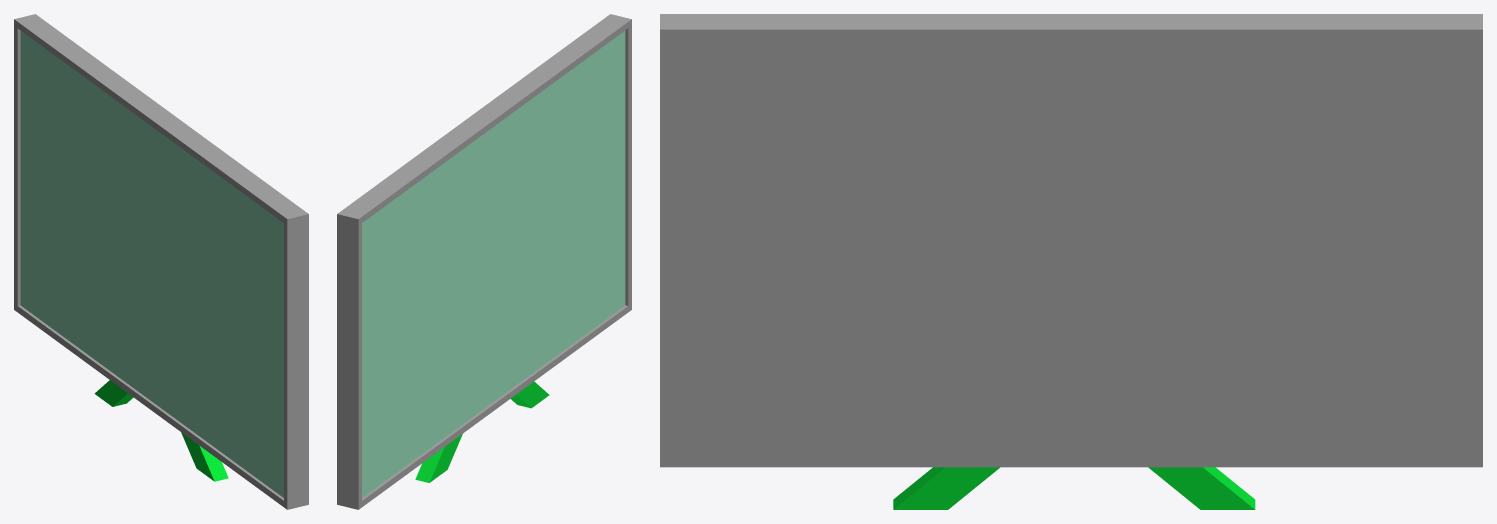
Rendered from tele.fbx.
3 views of the same model, side by side, from view 1: azimuth 30°, elevation 25°; view 2: azimuth 150°, elevation 25°; view 3: azimuth 270°, elevation 25° (orthographic). The views are drawn at different scales.
Parts seen in each view (by area): view 1: tele; view 2: tele; view 3: tele.
Boxes of the visible parts, x1,y1,x2,y2 form: tele: (14, 14, 308, 509); tele: (337, 14, 631, 509); tele: (660, 14, 1482, 509).
Size of the model in its own units: 6.88 by 98.37 by 152.
